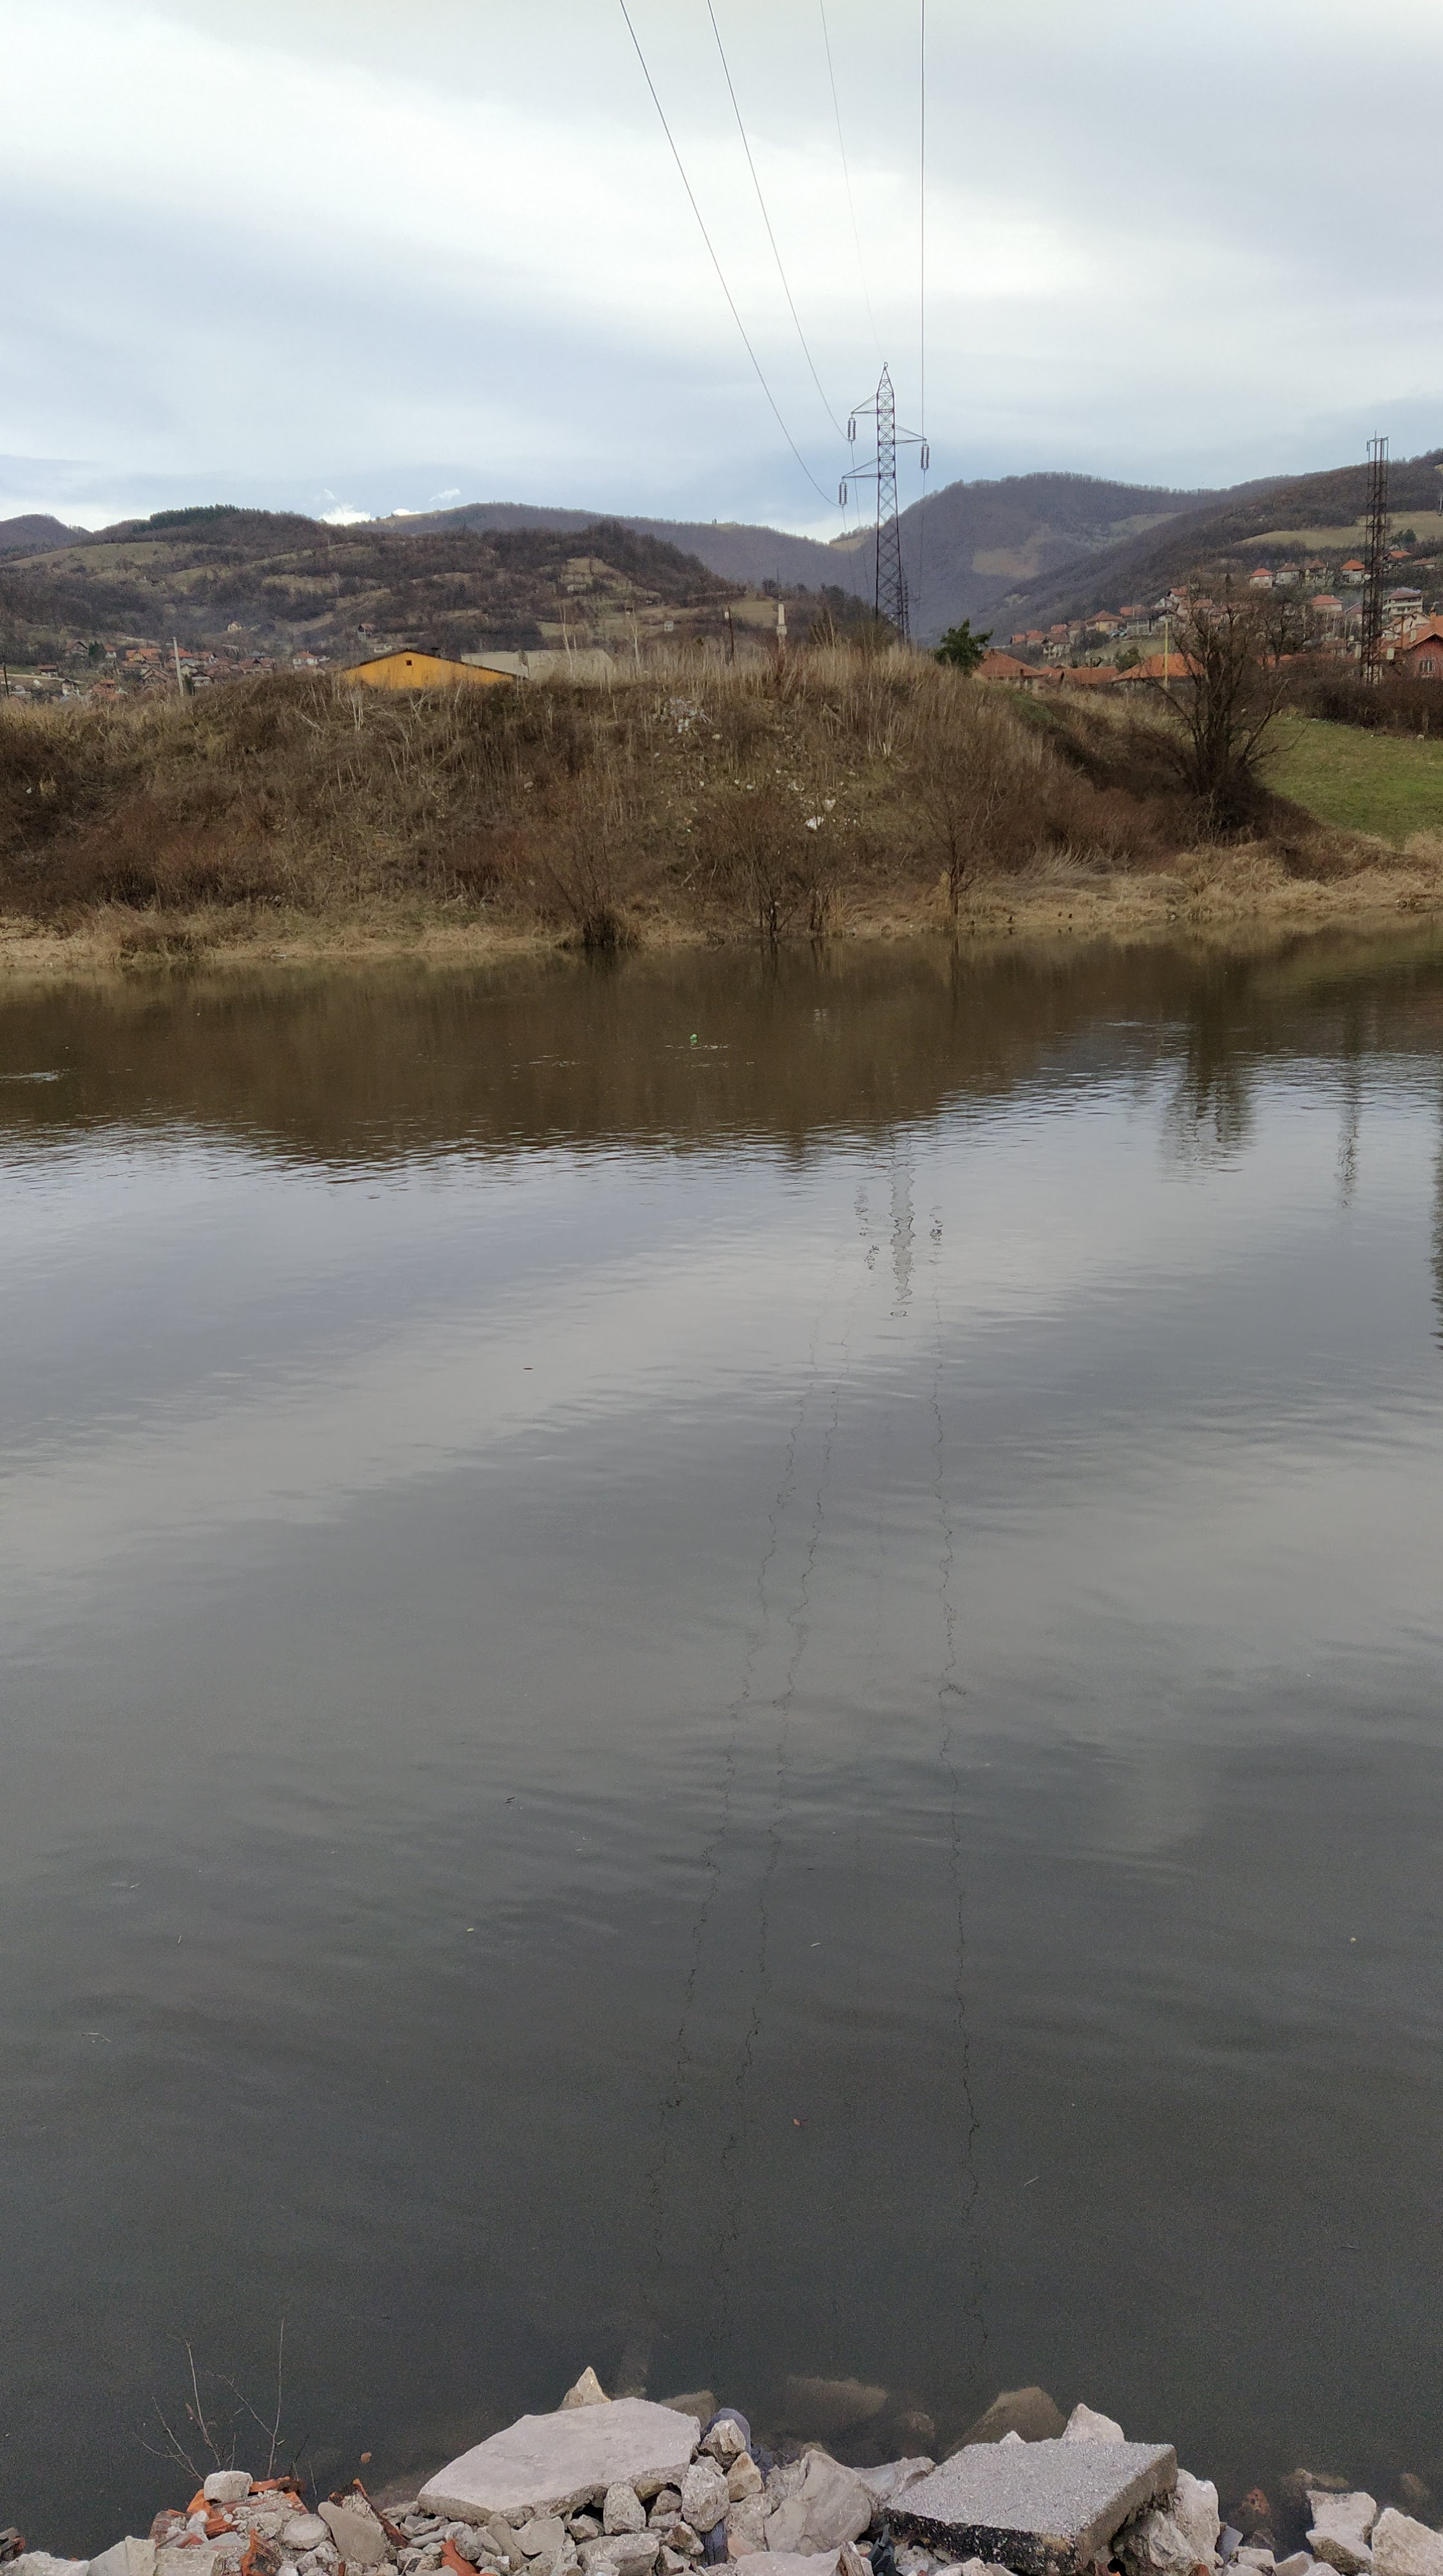Plastic Bottle: (691, 1033, 696, 1039)
